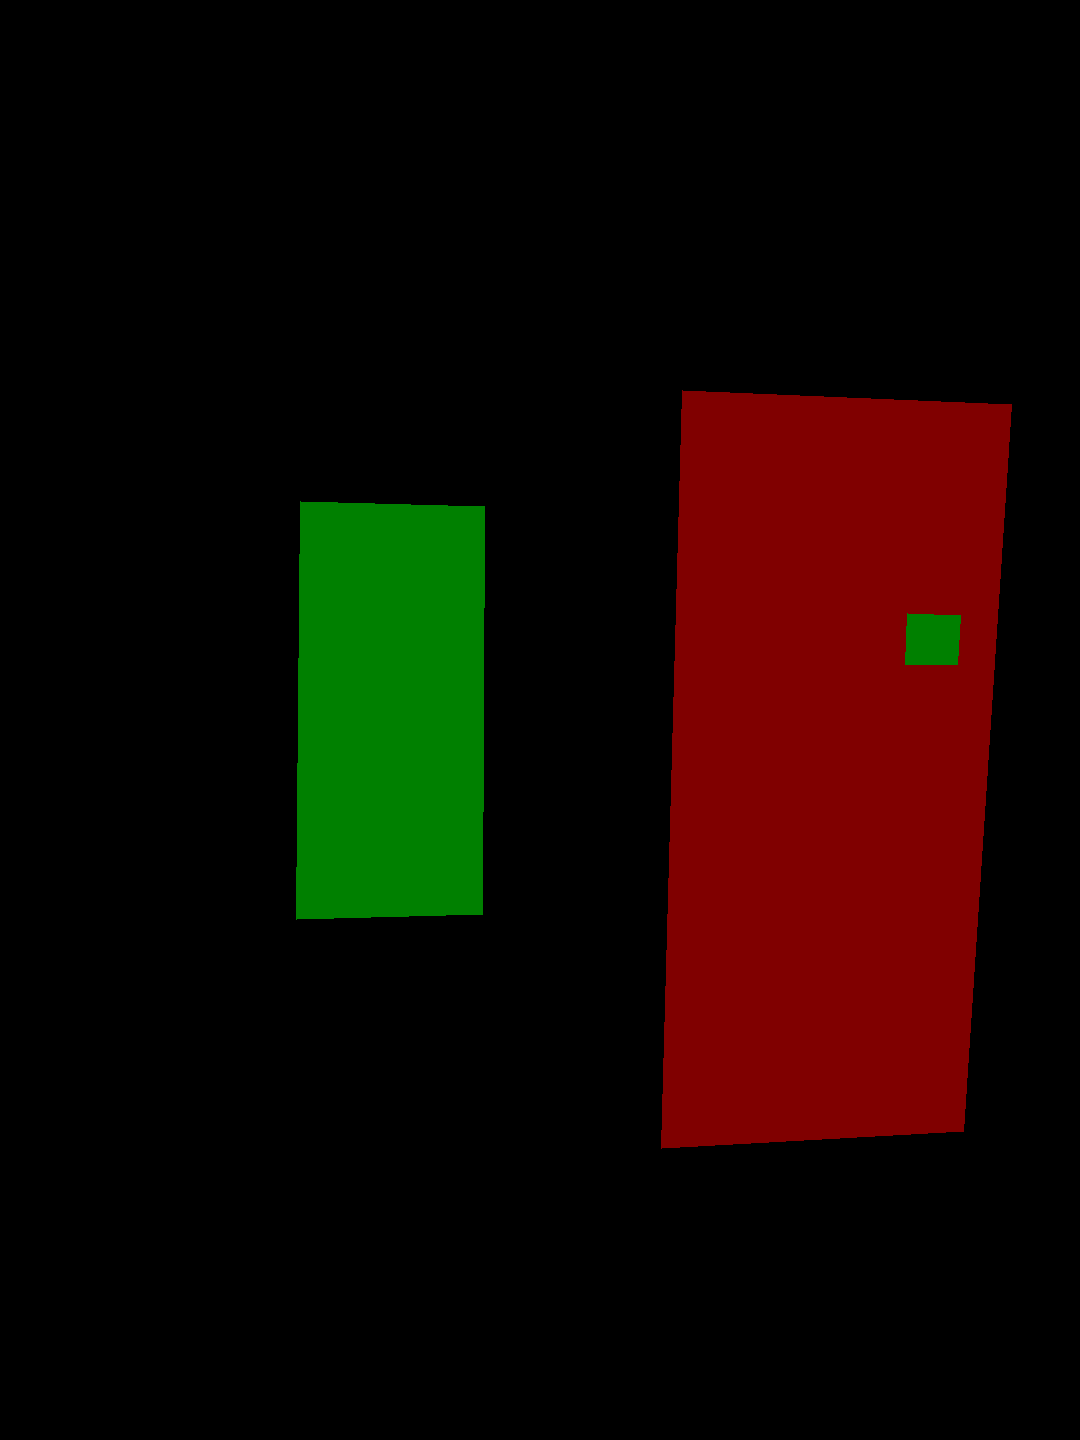door: (661, 390, 1011, 1147), (296, 501, 484, 920)
sign: (905, 613, 960, 664)
